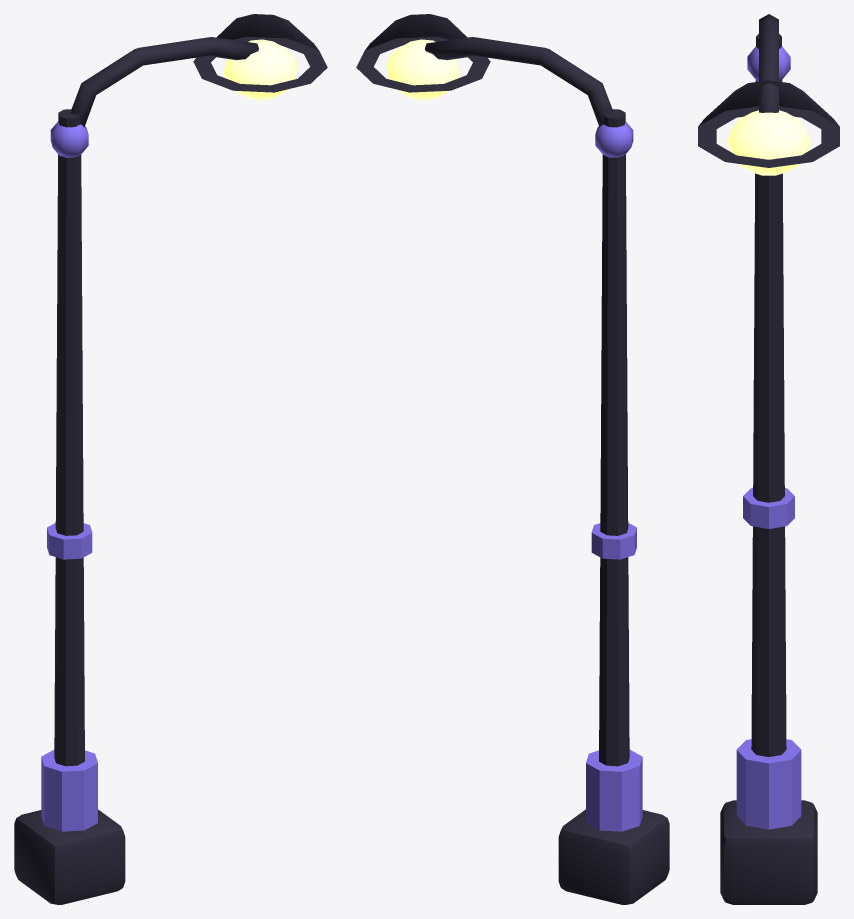
File: lamp_post.glb
The picture shows the model from 3 angles, left to right: view 1: azimuth 30°, elevation 25°; view 2: azimuth 150°, elevation 25°; view 3: azimuth 270°, elevation 25°; orthographic projection. The views are drawn at different scales.
Visible parts, largest first — view 1: lamp_post; view 2: lamp_post; view 3: lamp_post.
Part boxes in pixels (<box>): lamp_post: <box>14,14,327,904</box>; lamp_post: <box>356,14,669,904</box>; lamp_post: <box>698,14,839,904</box>.
Size of the model in its own units: 2.26 by 6.17 by 0.875.
